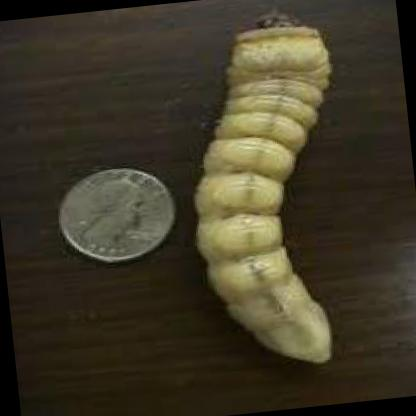root grubs: (195, 14, 331, 365)
